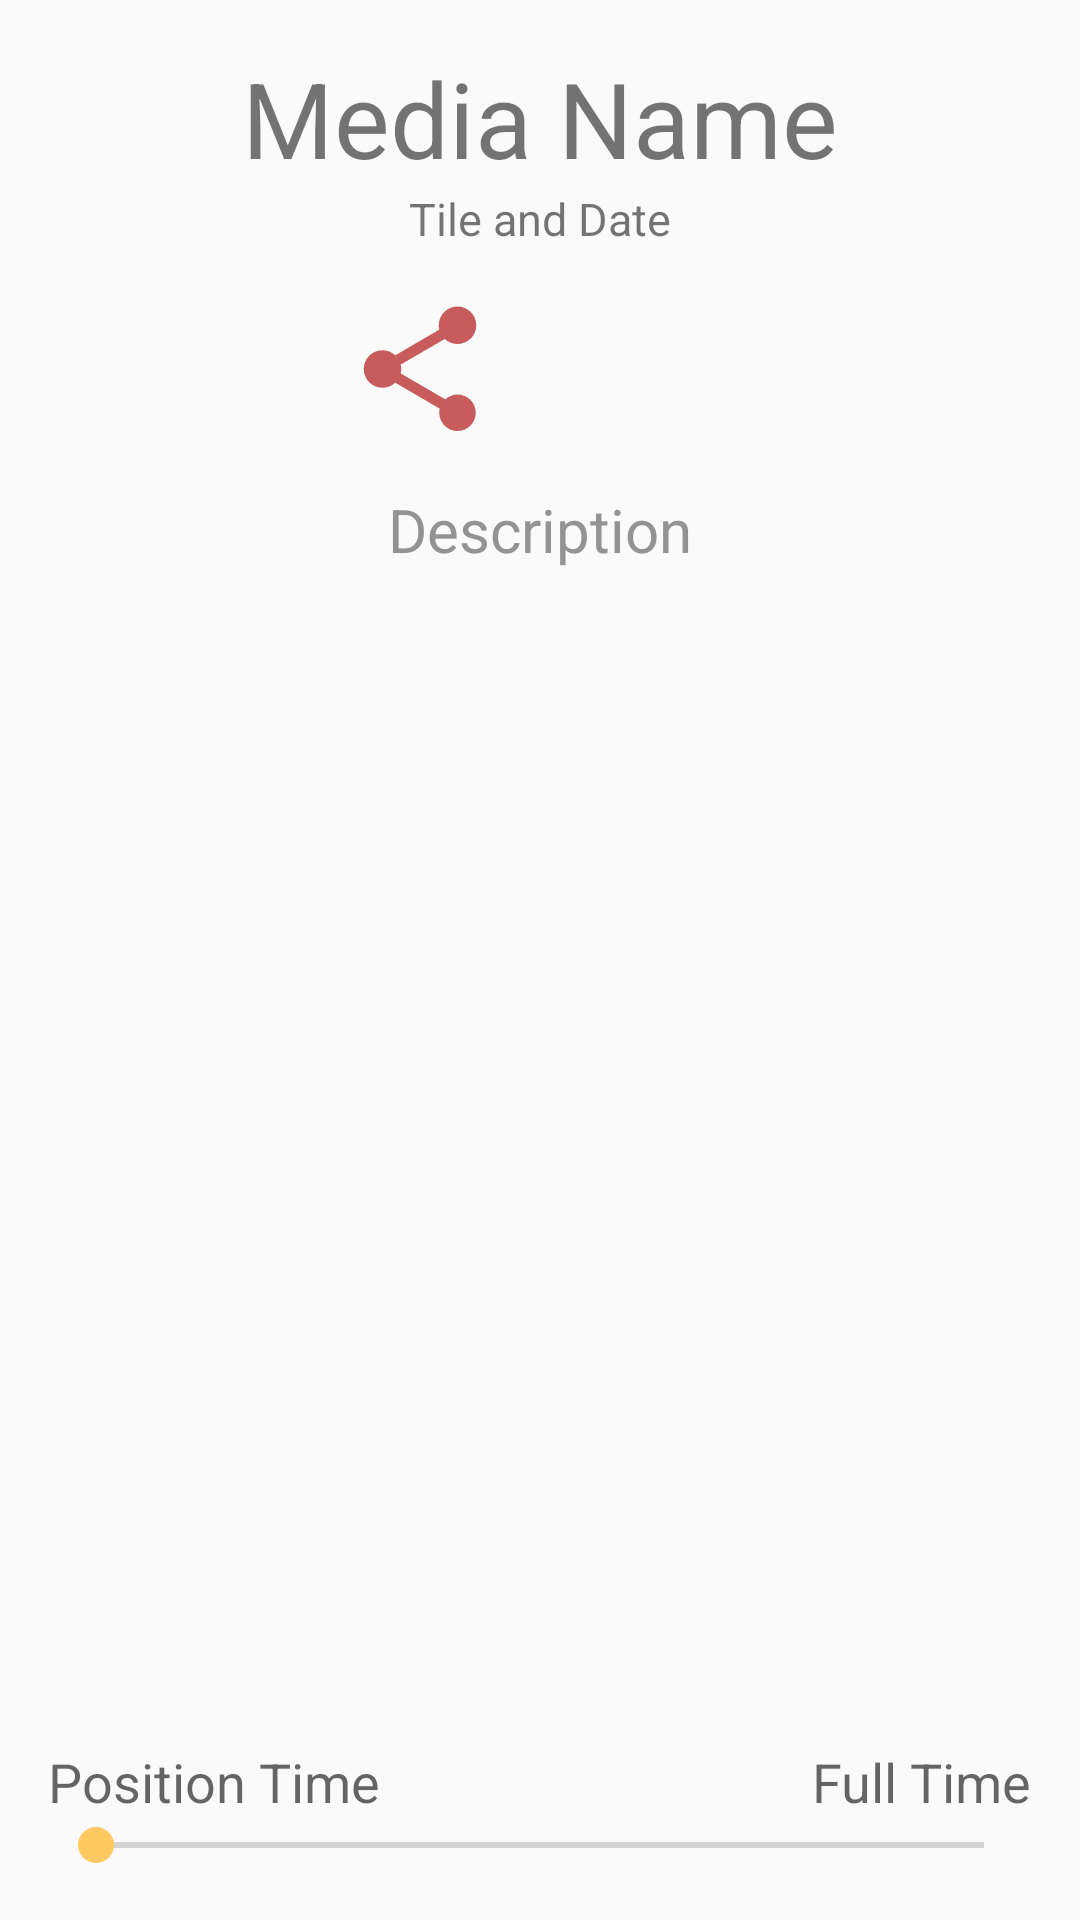

Named icons in this screenshot (1080×1920) and their bounding boxes, (x1=x1, y1=y1, x2=x2, y2=y2):
Share: (x1=363, y1=306, x2=477, y2=431)
